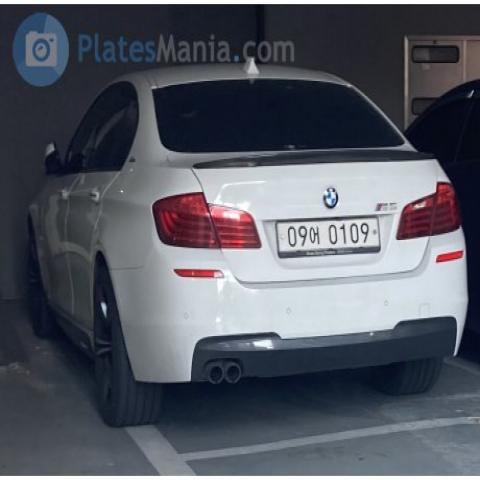LP: (270, 208, 388, 263)
